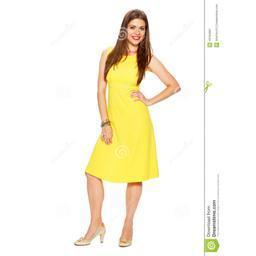dress: (84, 46, 160, 182)
